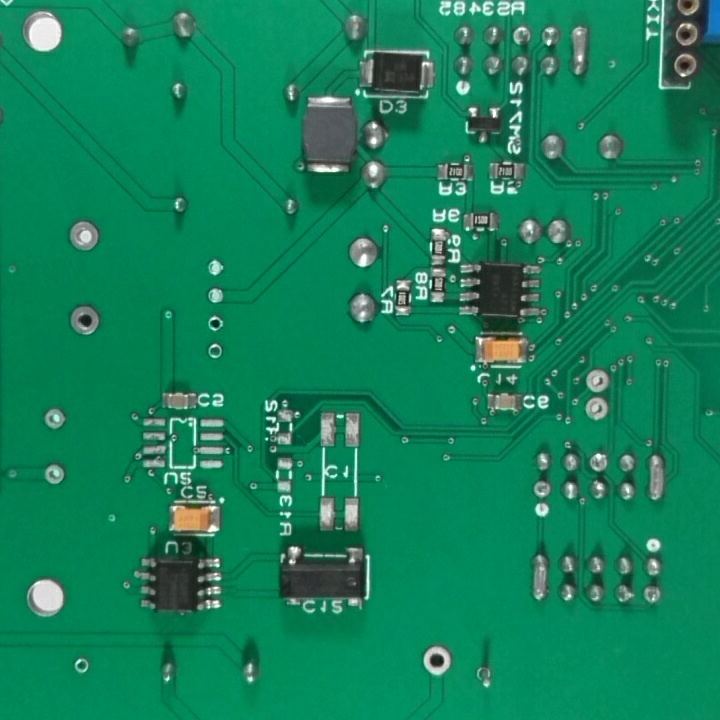F: (65, 216, 101, 256), (64, 303, 101, 340), (420, 643, 453, 680), (576, 366, 612, 399), (583, 395, 616, 423), (474, 661, 499, 695), (39, 404, 67, 432), (509, 23, 536, 49), (41, 460, 65, 487), (641, 583, 664, 611), (588, 449, 610, 475), (204, 256, 230, 277), (204, 283, 227, 306), (68, 655, 90, 678), (530, 480, 553, 502), (204, 314, 226, 335), (203, 342, 227, 361)
P: (563, 23, 594, 80), (527, 549, 553, 606), (646, 447, 668, 508)
